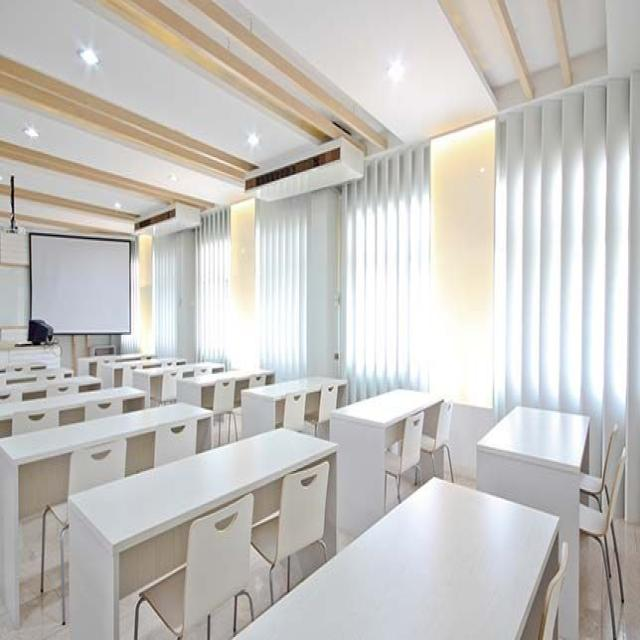obstacle: (67, 424, 339, 638), (230, 474, 560, 639), (0, 399, 214, 625), (475, 404, 590, 637), (126, 497, 251, 640), (328, 386, 444, 538), (578, 442, 630, 640), (250, 462, 332, 580), (422, 397, 458, 480), (390, 414, 426, 495)
